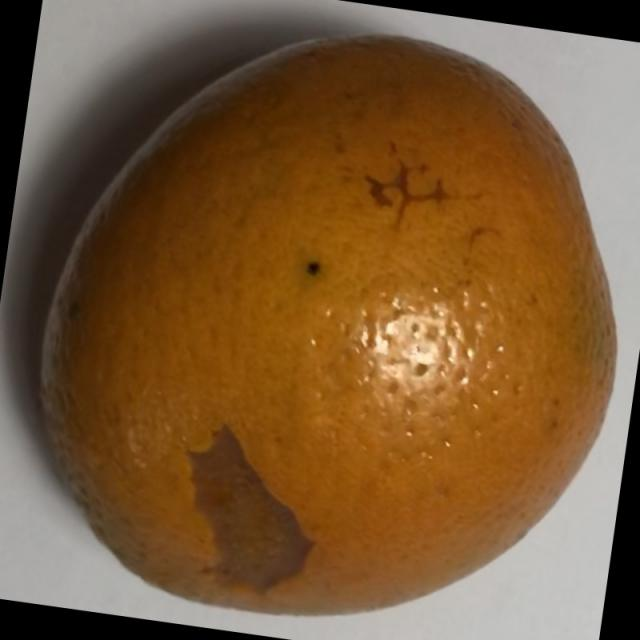canker: (32, 20, 614, 640)
